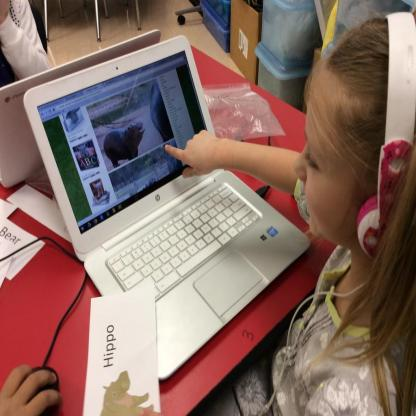board: (23, 33, 311, 385), (0, 27, 161, 190)
